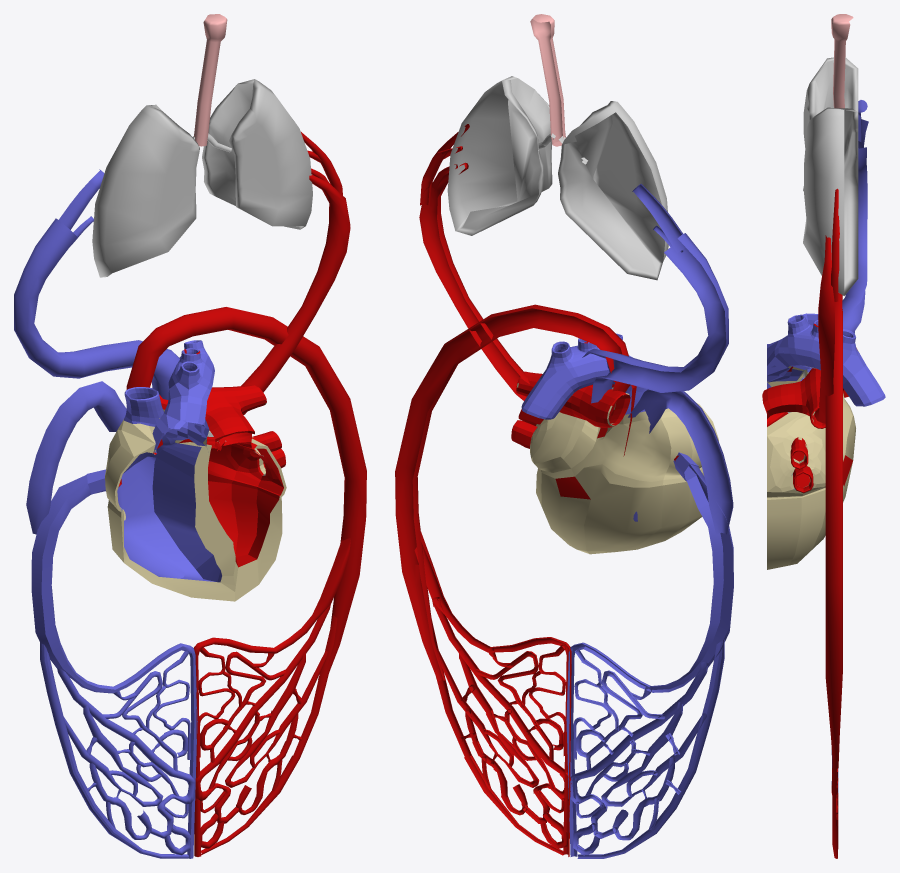
The model's file is blood_circulation.fbx.
The picture shows the model from 3 angles, left to right: view 1: azimuth 30°, elevation 25°; view 2: azimuth 150°, elevation 25°; view 3: azimuth 270°, elevation 25°; orthographic projection.
Visible parts, largest first — view 1: null_, pPlane7, pPlane10, pCylinder2, pCylinder5, pCylinder6, pCylinder7, pCylinder3, pCylinder165, pCylinder151, pCylinder169, pCylinder66 (+11 smaller); view 2: null_, pPlane7, pPlane10, pCylinder2, pCylinder6, pCylinder5, pCylinder7, pCylinder3, pCylinder165, pCylinder151, pCylinder65, pCylinder66 (+12 smaller); view 3: null_, pPlane10, pCylinder2, pCylinder6, pCylinder3, pPlane7, pCylinder1, pCylinder60, pCylinder65.
Boxes of the visible parts, x1,y1,x2,y2 form: null_: (105, 340, 286, 601); pPlane7: (92, 104, 199, 277); pPlane10: (202, 79, 312, 229); pCylinder2: (126, 307, 366, 679); pCylinder5: (31, 469, 197, 858); pCylinder6: (14, 218, 179, 399); pCylinder7: (26, 381, 126, 534); pCylinder3: (241, 175, 350, 414); pCylinder165: (194, 538, 350, 856); pCylinder151: (40, 643, 188, 858); pCylinder169: (195, 604, 330, 823); pCylinder66: (57, 668, 195, 838); null_: (511, 333, 718, 554); pPlane7: (558, 101, 668, 280); pPlane10: (447, 76, 555, 235); pCylinder2: (395, 304, 636, 681); pCylinder6: (582, 233, 728, 403); pCylinder5: (566, 452, 733, 856); pCylinder7: (628, 389, 733, 534); pCylinder3: (419, 162, 529, 400); pCylinder165: (414, 531, 571, 856); pCylinder151: (576, 639, 724, 858); pCylinder65: (415, 564, 563, 855); pCylinder66: (570, 662, 708, 838); null_: (762, 313, 885, 569); pPlane10: (803, 107, 858, 295); pCylinder2: (825, 292, 848, 768); pCylinder6: (842, 119, 868, 333); pCylinder3: (814, 235, 834, 423); pPlane7: (803, 57, 858, 191); pCylinder1: (831, 14, 853, 108); pCylinder60: (831, 188, 839, 301); pCylinder65: (832, 759, 838, 858).
Size of the model in its own units: 22.48 by 52.44 by 6.96.
